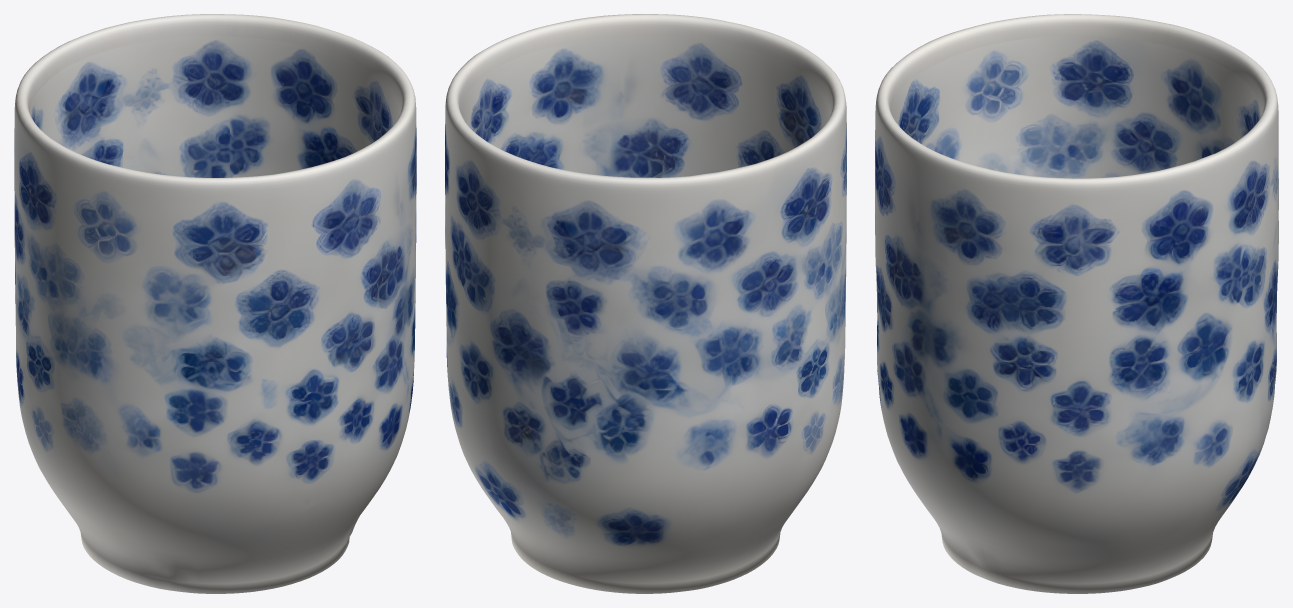
The picture shows the model from 3 angles, left to right: view 1: azimuth 30°, elevation 25°; view 2: azimuth 150°, elevation 25°; view 3: azimuth 270°, elevation 25°; orthographic projection.
Visible parts, largest first — view 1: model; view 2: model; view 3: model.
Part boxes in pixels (bbox=[...]): model: bbox=[14, 14, 416, 593]; model: bbox=[445, 14, 846, 593]; model: bbox=[875, 14, 1278, 593].
Bounding box in the file's own units: 0.8285 × 1 × 0.8293.
1 material, 1 textured.
